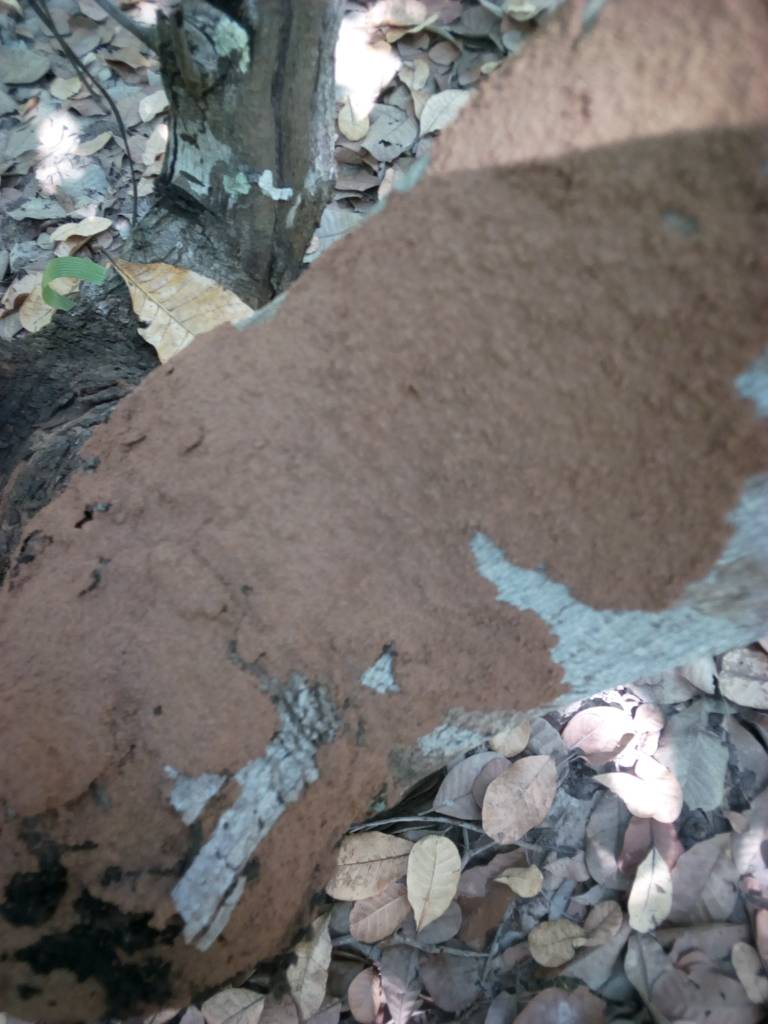Termites: (5, 10, 758, 989)
